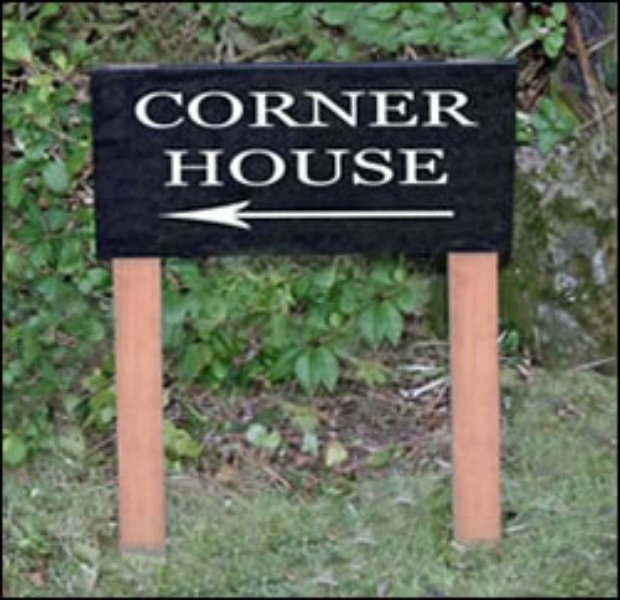text: (145, 87, 160, 129), (161, 87, 176, 129), (177, 87, 192, 129), (193, 87, 208, 129), (209, 87, 224, 129), (225, 87, 240, 129), (241, 87, 256, 129), (257, 87, 272, 129), (273, 87, 288, 129), (289, 87, 304, 129), (305, 87, 320, 129), (321, 87, 336, 129), (337, 87, 352, 129), (353, 87, 368, 129), (369, 87, 384, 129), (385, 87, 400, 129), (401, 87, 416, 129), (417, 87, 432, 129), (433, 87, 448, 129), (449, 87, 464, 129), (465, 87, 479, 129), (177, 147, 192, 186), (193, 147, 208, 186), (209, 147, 224, 186), (225, 147, 240, 186), (241, 147, 256, 186), (257, 147, 272, 186), (273, 147, 288, 186), (289, 147, 304, 186), (305, 147, 320, 186), (321, 147, 336, 186), (337, 147, 352, 186), (353, 147, 368, 186), (369, 147, 384, 186), (385, 147, 400, 186), (401, 147, 416, 186), (417, 147, 432, 186), (433, 147, 447, 186), (164, 147, 176, 186), (134, 87, 144, 129)
